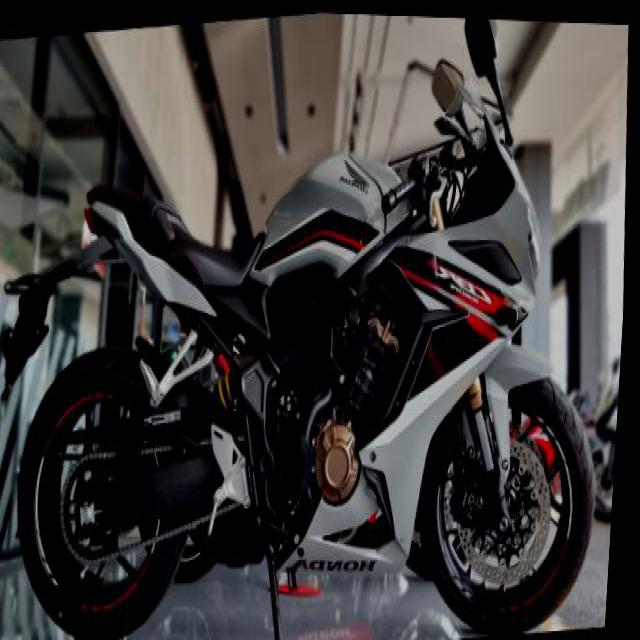CBR650R: (2, 78, 622, 638)
